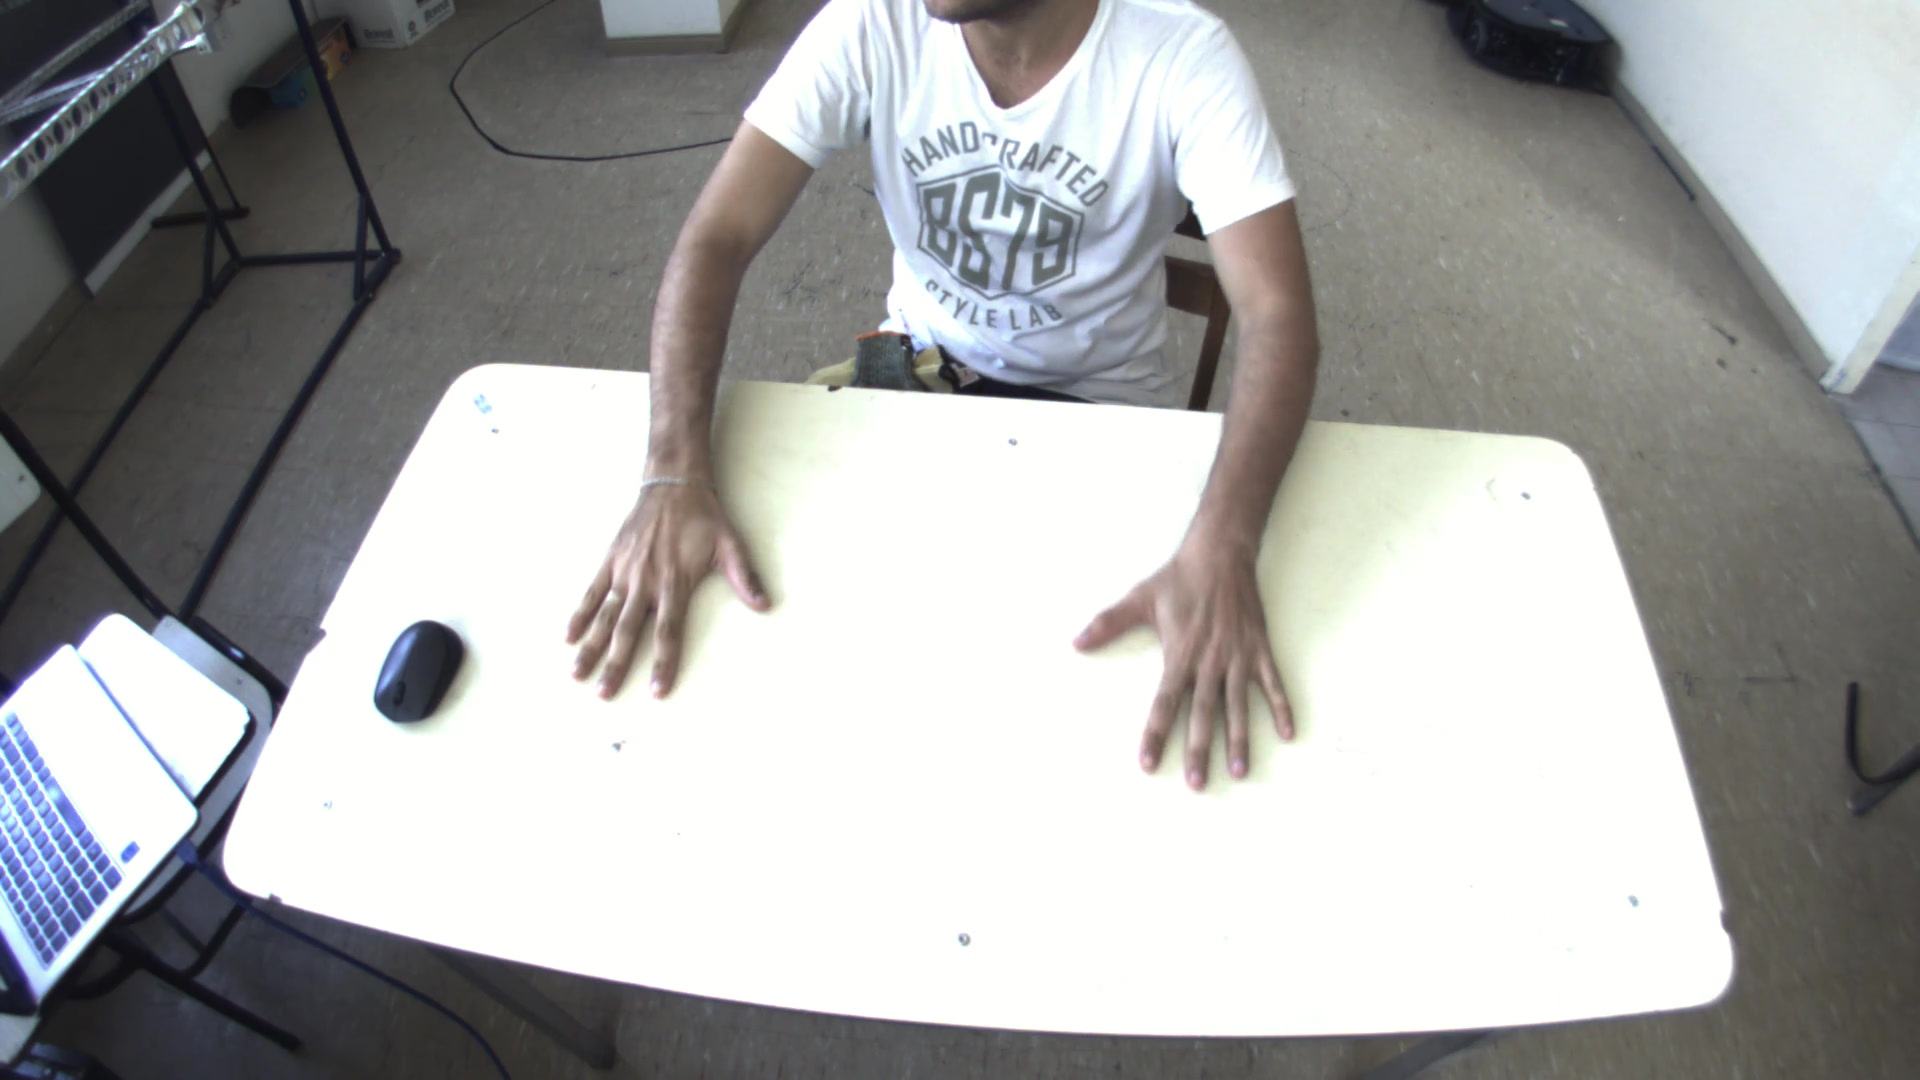hand: (1065, 531, 1313, 800), (551, 458, 775, 707)
